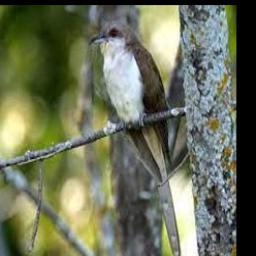Cuckoo: (88, 20, 181, 256)
